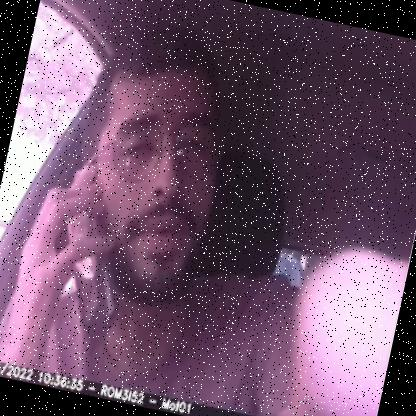phone: (29, 173, 144, 361)
